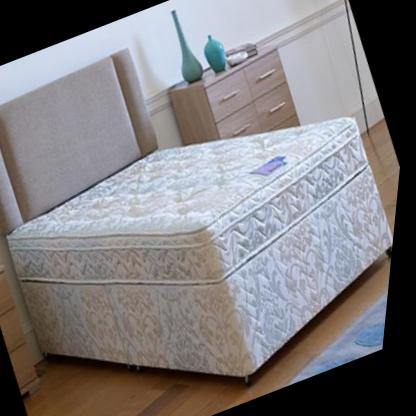Bed: (0, 49, 398, 378)
Nightstand: (171, 43, 304, 143)
Wooden floor: (32, 355, 256, 416)
